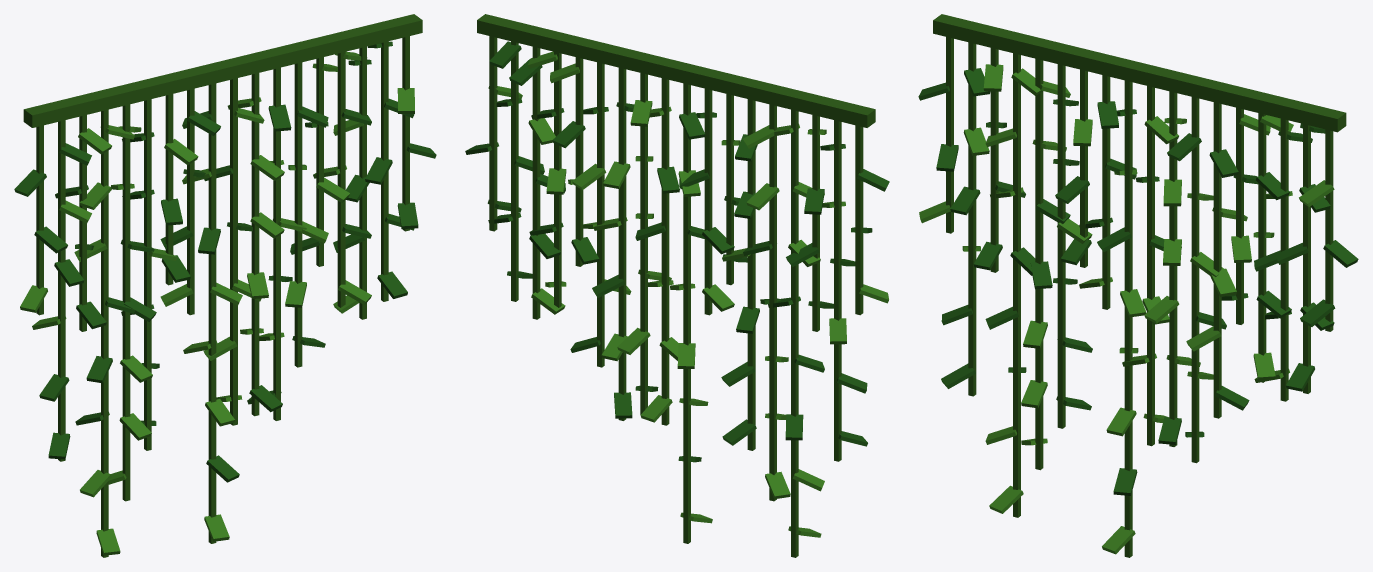
Rendered from jg_vine_curtain.glb.
3 views of the same model, side by side, from view 1: azimuth 30°, elevation 25°; view 2: azimuth 150°, elevation 25°; view 3: azimuth 330°, elevation 25° (orthographic). The views are drawn at different scales.
Parts seen in each view (by area): view 1: jg_vine_curtain; view 2: jg_vine_curtain; view 3: jg_vine_curtain.
Boxes of the visible parts, x1=… form: jg_vine_curtain: x1=14, y1=14, x2=436, y2=557; jg_vine_curtain: x1=465, y1=14, x2=889, y2=557; jg_vine_curtain: x1=918, y1=14, x2=1358, y2=557.
Size of the model in its own units: 3.43 by 3.72 by 0.4336.
